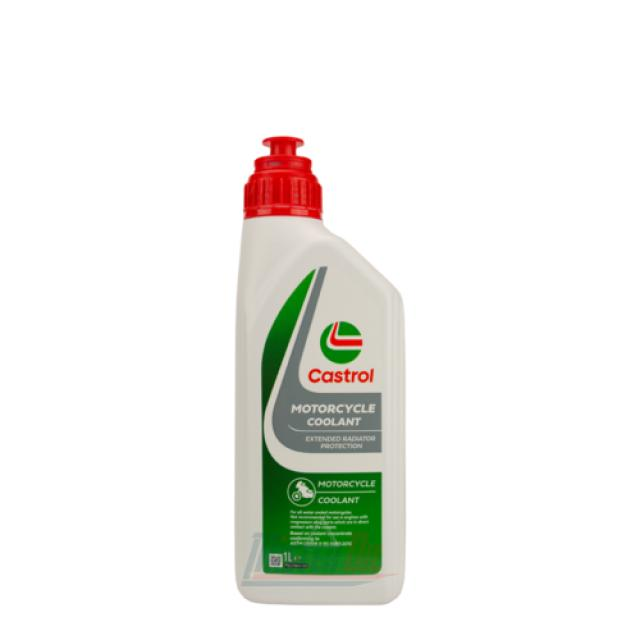coolant: (236, 126, 412, 613)
